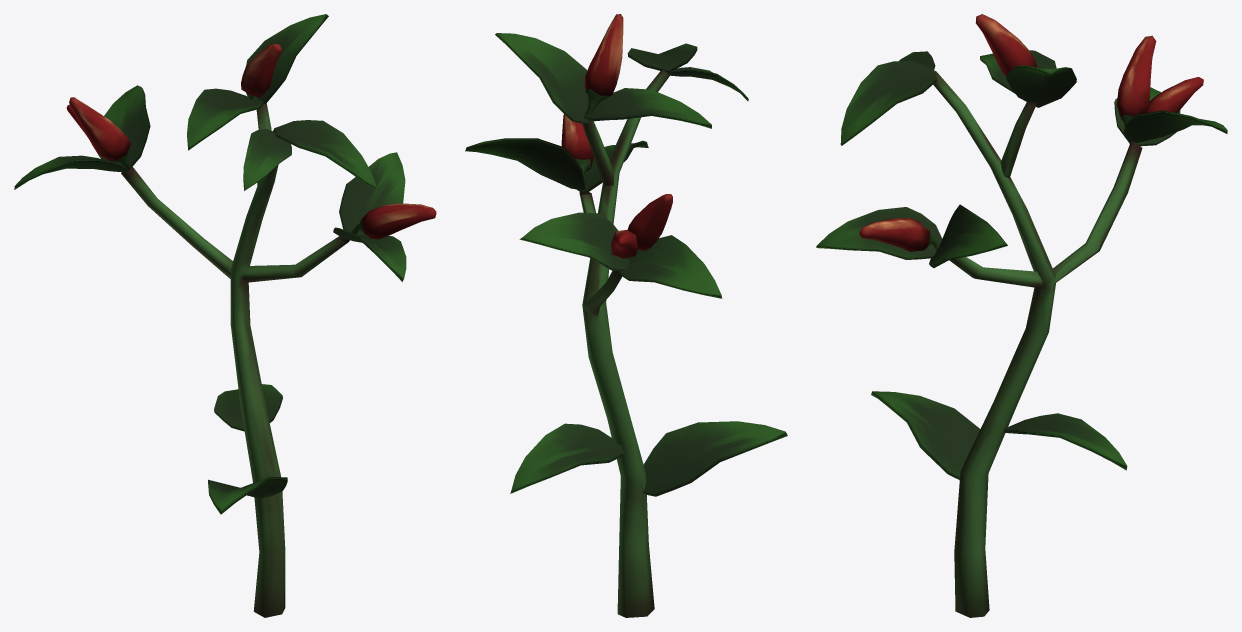
File: pimenta inteira.fbx
3 views of the same model, side by side, from view 1: azimuth 30°, elevation 25°; view 2: azimuth 150°, elevation 25°; view 3: azimuth 270°, elevation 25° (orthographic). The views are drawn at different scales.
Parts seen in each view (by area): view 1: pimenta, pimenta5:Group10401, pimenta2:Group38920, pimenta2:Group53795, pimenta2:Group5147, pimenta2:Group22034, pimenta2:Group55805, pimenta1:Group54226, pimenta2:Group36906, pimenta1:Group28072, pimenta2:Group57799, pimenta2:Group40918 (+3 smaller); view 2: pimenta, pimenta2:Group57799, pimenta2:Group40918, pimenta2:Group22034, pimenta2:Group24036, pimenta2:Group55805, pimenta2:Group38920, pimenta2:Group5147, pimenta1:Group64751, pimenta5:Group10401, pimenta1:Group54226, pimenta2:Group53795 (+4 smaller); view 3: pimenta, pimenta5:Group10401, pimenta2:Group57799, pimenta2:Group53795, pimenta2:Group7153, pimenta2:Group38920, pimenta2:Group40918, pimenta2:Group22034, pimenta1:Group54226, pimenta2:Group55805, pimenta1:Group64751, pimenta1:Group28072 (+2 smaller).
Part boxes in pixels (left/top/right/bottom): pimenta: left=230, top=129, right=285, bottom=617; pimenta5:Group10401: left=121, top=103, right=349, bottom=282; pimenta2:Group38920: left=339, top=152, right=405, bottom=235; pimenta2:Group53795: left=273, top=120, right=376, bottom=188; pimenta2:Group5147: left=187, top=88, right=263, bottom=150; pimenta2:Group22034: left=246, top=14, right=328, bottom=104; pimenta2:Group55805: left=98, top=85, right=150, bottom=172; pimenta1:Group54226: left=69, top=97, right=130, bottom=161; pimenta2:Group36906: left=243, top=129, right=291, bottom=190; pimenta1:Group28072: left=362, top=203, right=436, bottom=239; pimenta2:Group57799: left=208, top=476, right=287, bottom=514; pimenta2:Group40918: left=214, top=384, right=282, bottom=431; pimenta: left=582, top=69, right=670, bottom=617; pimenta2:Group57799: left=643, top=421, right=787, bottom=496; pimenta2:Group40918: left=510, top=423, right=623, bottom=493; pimenta2:Group22034: left=495, top=33, right=588, bottom=124; pimenta2:Group24036: left=619, top=235, right=722, bottom=298; pimenta2:Group55805: left=519, top=212, right=629, bottom=271; pimenta2:Group38920: left=465, top=138, right=585, bottom=190; pimenta2:Group5147: left=584, top=88, right=711, bottom=128; pimenta1:Group64751: left=584, top=14, right=623, bottom=96; pimenta5:Group10401: left=579, top=120, right=622, bottom=316; pimenta1:Group54226: left=627, top=194, right=672, bottom=250; pimenta2:Group53795: left=627, top=43, right=697, bottom=72; pimenta: left=933, top=71, right=1055, bottom=617; pimenta5:Group10401: left=949, top=100, right=1142, bottom=288; pimenta2:Group57799: left=871, top=391, right=980, bottom=479; pimenta2:Group53795: left=840, top=61, right=936, bottom=145; pimenta2:Group7153: left=816, top=207, right=942, bottom=259; pimenta2:Group38920: left=929, top=204, right=1007, bottom=267; pimenta2:Group40918: left=1003, top=413, right=1127, bottom=470; pimenta2:Group22034: left=1006, top=65, right=1076, bottom=107; pimenta1:Group54226: left=1116, top=35, right=1156, bottom=117; pimenta2:Group55805: left=1124, top=110, right=1227, bottom=143; pimenta1:Group64751: left=975, top=14, right=1037, bottom=76; pimenta1:Group28072: left=859, top=218, right=929, bottom=251.
Bounding box in the file's own units: 44.11 × 76.01 × 47.13.
2 materials, 2 textured.
